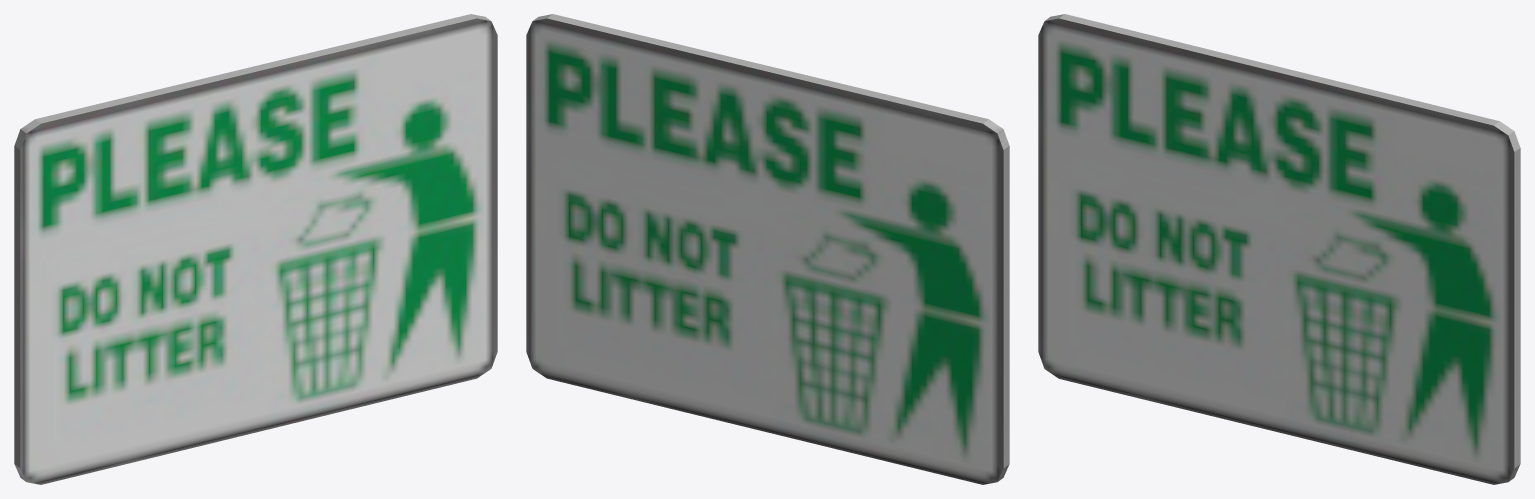
Rendered from Tag_3.fbx.
3 renders of one model, left to right at view 1: azimuth 30°, elevation 25°; view 2: azimuth 150°, elevation 25°; view 3: azimuth 330°, elevation 25°, orthographic.
Parts seen in each view (by area): view 1: Tag_3; view 2: Tag_3; view 3: Tag_3.
Part boxes in pixels (<box>): Tag_3: <box>14,14,497,484</box>; Tag_3: <box>526,14,1009,484</box>; Tag_3: <box>1038,14,1520,484</box>.
Bounding box in the file's own units: 0.3763 × 0.2723 × 0.0083.
